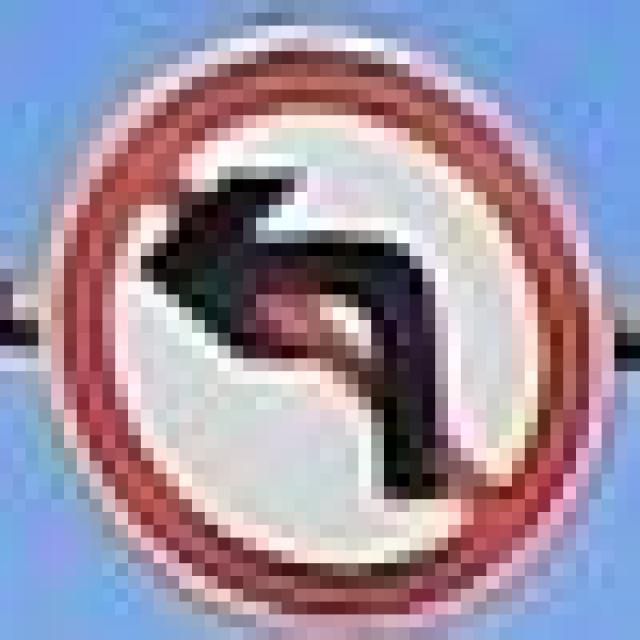left turn prohibited: (40, 27, 606, 620)
